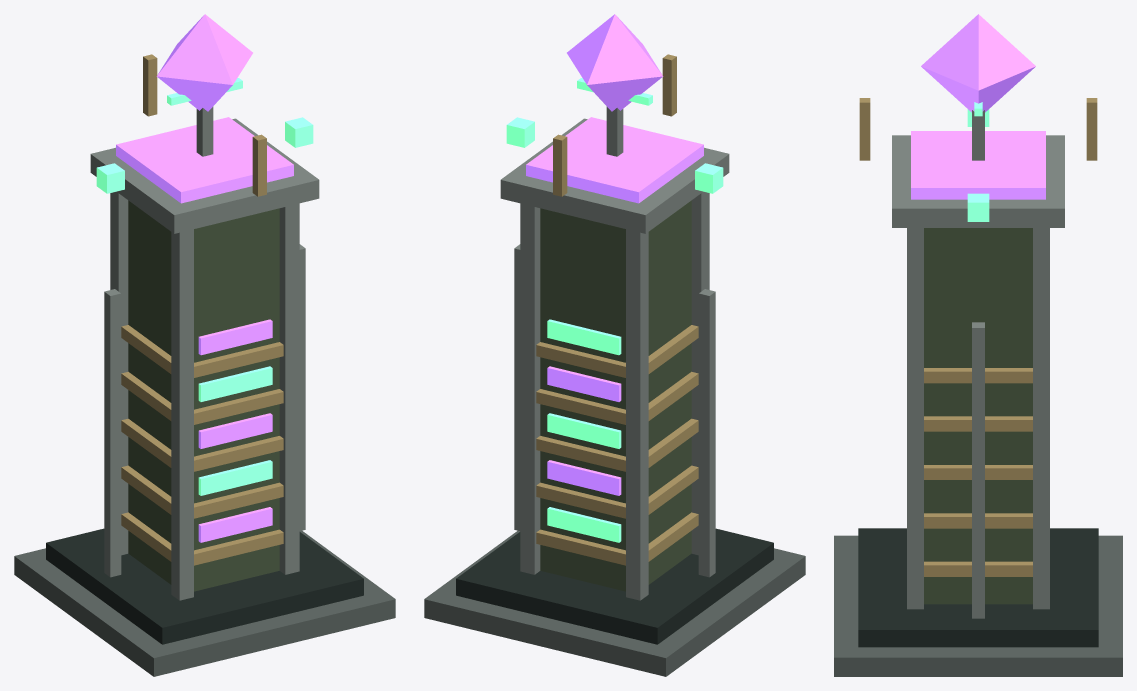
The model's file is chronicle_beacon_l05.glb.
3 renders of one model, left to right at view 1: azimuth 30°, elevation 25°; view 2: azimuth 150°, elevation 25°; view 3: azimuth 270°, elevation 25°, orthographic. The views are drawn at different scales.
Visible parts, largest first — view 1: chronicle_beacon_l05; view 2: chronicle_beacon_l05; view 3: chronicle_beacon_l05.
Part boxes in pixels (bbox=[...]): chronicle_beacon_l05: bbox=[14, 14, 395, 676]; chronicle_beacon_l05: bbox=[424, 14, 805, 676]; chronicle_beacon_l05: bbox=[834, 14, 1122, 676].
Bounding box in the file's own units: 2.7 × 6.21 × 2.7.
